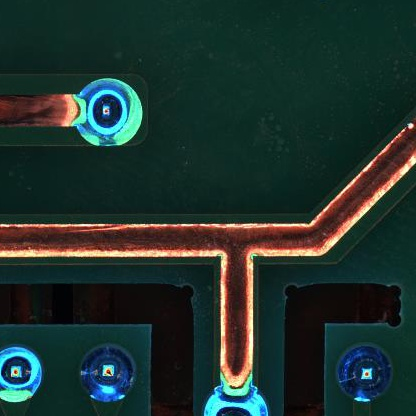spot: (76, 79, 144, 145), (79, 343, 138, 403), (335, 343, 393, 403), (1, 347, 42, 403)
